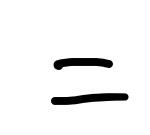eqv: (51, 59, 129, 105)
